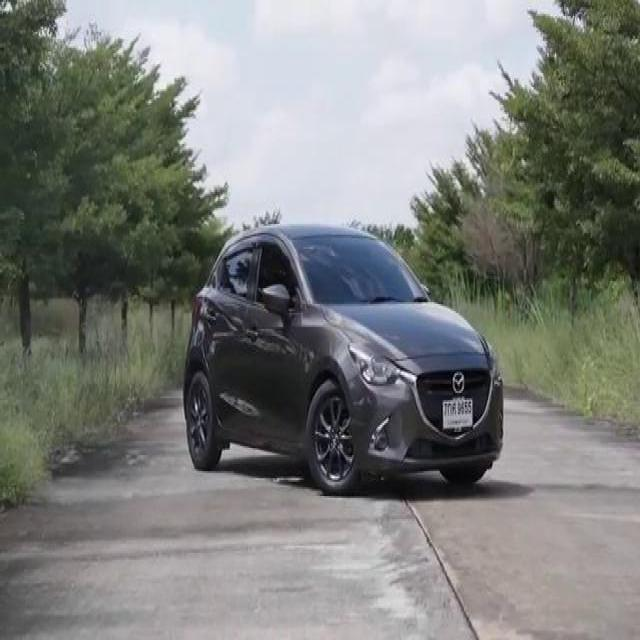Hatchback: (183, 224, 503, 494)
